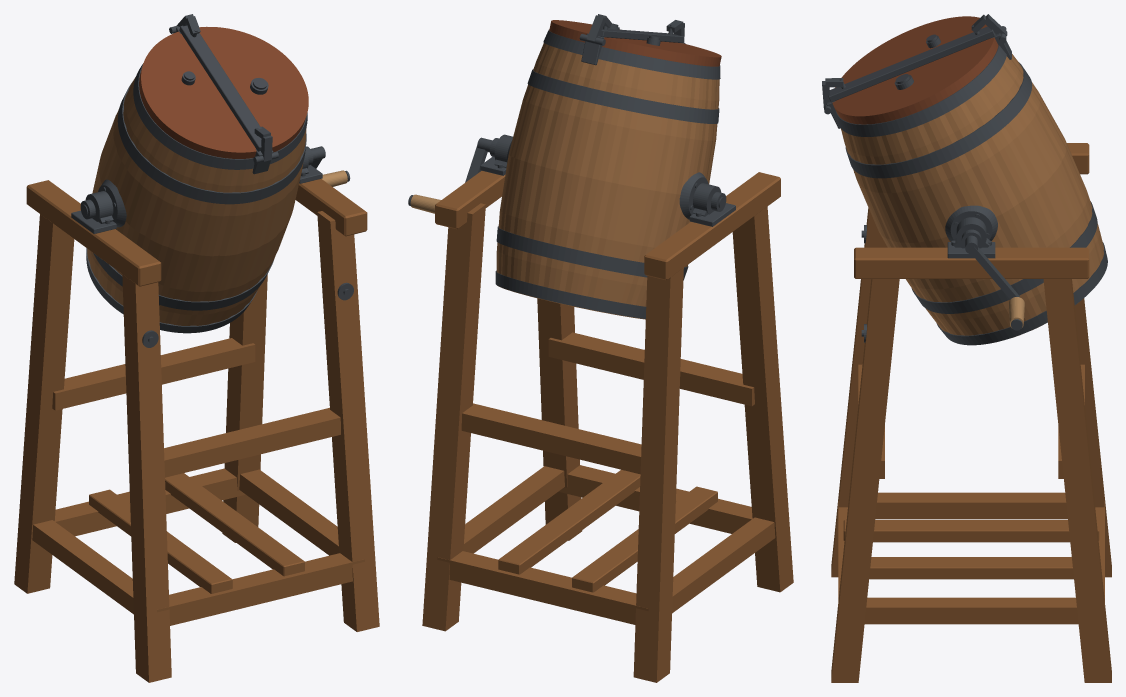
The model's file is NEW459_barrel_churn_LOD0.glb.
3 views of the same model, side by side, from view 1: azimuth 30°, elevation 25°; view 2: azimuth 150°, elevation 25°; view 3: azimuth 270°, elevation 25° (orthographic). The views are drawn at different scales.
Visible parts, largest first — view 1: Coopered_barrel_closed_bottom_inner_wall, Secured_lid_disc, Stand_leg_-1_-1, Stand_leg_1_-1, Stand_leg_-1_1, Cross_lower_rail_-1, Cross_mid_rail_-1, Stand_leg_1_1, Cross_mid_rail_1, Top_bearing_rail_-1, Bottom_platform_slat_0.075, Side_lower_rail_-1 (+10 smaller); view 2: Coopered_barrel_closed_bottom_inner_wall, Stand_leg_-1_1, Stand_leg_1_1, Stand_leg_-1_-1, Cross_lower_rail_1, Cross_mid_rail_1, Stand_leg_1_-1, Cross_mid_rail_-1, Top_bearing_rail_-1, Bottom_platform_slat_0.075, Side_lower_rail_-1, Side_lower_rail_1 (+10 smaller); view 3: Coopered_barrel_closed_bottom_inner_wall, Stand_leg_1_1, Stand_leg_1_-1, Secured_lid_disc, Top_bearing_rail_1, Side_lower_rail_1, Side_lower_rail_-1, Bottom_platform_slat_0.075, Bottom_platform_slat_-0.075, Stand_leg_-1_-1, Iron_barrel_band_2, Iron_barrel_band_3 (+11 smaller).
Part boxes in pixels (left/top/right/bottom): Coopered_barrel_closed_bottom_inner_wall: left=87, top=77, right=306, bottom=325; Secured_lid_disc: left=139, top=26, right=308, bottom=158; Stand_leg_-1_-1: left=122, top=274, right=171, bottom=682; Stand_leg_1_-1: left=317, top=211, right=379, bottom=631; Stand_leg_-1_1: left=14, top=214, right=74, bottom=593; Cross_lower_rail_-1: left=157, top=553, right=364, bottom=625; Cross_mid_rail_-1: left=164, top=407, right=340, bottom=477; Stand_leg_1_1: left=222, top=274, right=267, bottom=542; Cross_mid_rail_1: left=52, top=338, right=255, bottom=410; Top_bearing_rail_-1: left=26, top=180, right=161, bottom=286; Bottom_platform_slat_0.075: left=165, top=473, right=304, bottom=576; Side_lower_rail_-1: left=32, top=520, right=133, bottom=614; Coopered_barrel_closed_bottom_inner_wall: left=496, top=43, right=719, bottom=319; Stand_leg_-1_1: left=633, top=268, right=683, bottom=682; Stand_leg_1_1: left=422, top=203, right=485, bottom=631; Stand_leg_-1_-1: left=732, top=206, right=793, bottom=592; Cross_lower_rail_1: left=437, top=551, right=648, bottom=624; Cross_mid_rail_1: left=461, top=403, right=641, bottom=474; Stand_leg_1_-1: left=537, top=298, right=582, bottom=540; Cross_mid_rail_-1: left=548, top=332, right=754, bottom=406; Top_bearing_rail_-1: left=644, top=172, right=780, bottom=280; Bottom_platform_slat_0.075: left=498, top=469, right=640, bottom=574; Side_lower_rail_-1: left=672, top=517, right=775, bottom=613; Side_lower_rail_1: left=463, top=466, right=564, bottom=553; Coopered_barrel_closed_bottom_inner_wall: left=840, top=54, right=1103, bottom=335; Stand_leg_1_1: left=1043, top=279, right=1111, bottom=682; Stand_leg_1_-1: left=831, top=279, right=899, bottom=682; Secured_lid_disc: left=832, top=16, right=998, bottom=124; Top_bearing_rail_1: left=854, top=247, right=1089, bottom=278; Side_lower_rail_1: left=864, top=597, right=1078, bottom=624; Side_lower_rail_-1: left=875, top=492, right=1067, bottom=519; Bottom_platform_slat_0.075: left=869, top=557, right=1073, bottom=579; Bottom_platform_slat_-0.075: left=843, top=520, right=1099, bottom=542; Stand_leg_-1_-1: left=831, top=208, right=887, bottom=577; Iron_barrel_band_2: left=845, top=62, right=1032, bottom=178; Iron_barrel_band_3: left=836, top=45, right=1006, bottom=136.
Size of the model in its own units: 0.5945 by 1.16 by 0.4989.
